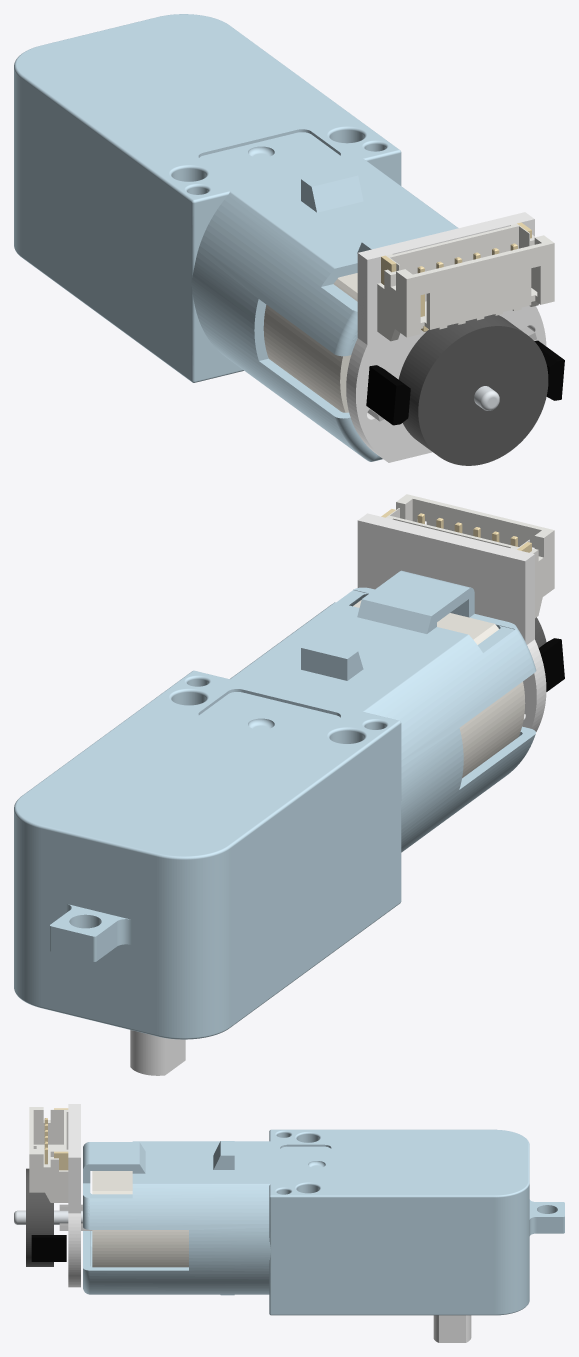
File: dc_motor_encoder.glb
3 views of the same model, one above another, from view 1: azimuth 30°, elevation 25°; view 2: azimuth 150°, elevation 25°; view 3: azimuth 270°, elevation 25° (orthographic). The views are drawn at different scales.
Visible parts, largest first — view 1: Node8, Node10, Node11, Node4, Node3, Node6, Node2; view 2: Node8, Node4, Node11, Node3, Node6; view 3: Node8, Node3, Node4, Node11, Node10, Node6, Node2, Node7.
Boxes of the visible parts, x1,y1,x2,y2 form: Node8: [14, 14, 458, 461]; Node10: [398, 314, 548, 465]; Node11: [377, 223, 554, 341]; Node4: [346, 212, 546, 462]; Node3: [263, 273, 357, 412]; Node6: [366, 340, 564, 425]; Node2: [381, 222, 531, 331]; Node8: [14, 570, 536, 1039]; Node4: [130, 513, 546, 1075]; Node11: [386, 494, 554, 618]; Node3: [353, 600, 525, 778]; Node6: [538, 638, 564, 691]; Node8: [83, 1129, 564, 1315]; Node3: [92, 1171, 188, 1267]; Node4: [68, 1104, 471, 1342]; Node11: [29, 1107, 68, 1202]; Node10: [26, 1168, 53, 1266]; Node6: [31, 1235, 66, 1261]; Node2: [44, 1108, 68, 1170]; Node7: [14, 1210, 82, 1224].
Size of the model in its own units: 22.5 by 32.4 by 78.3.
